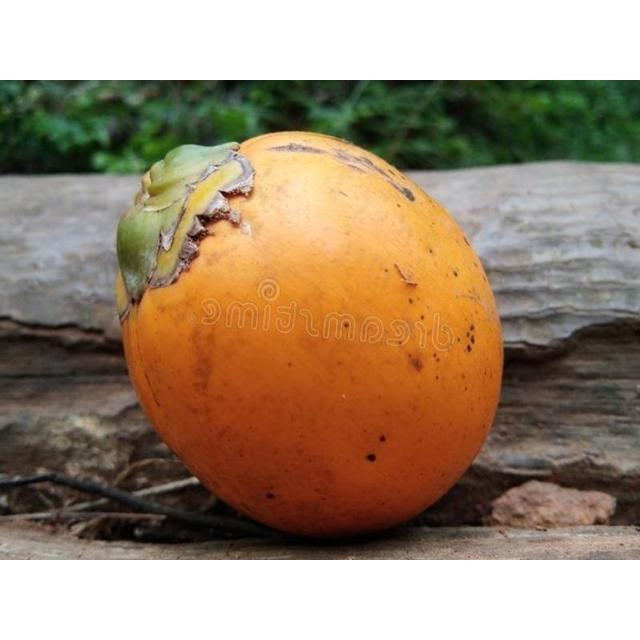good: (114, 131, 504, 543)
